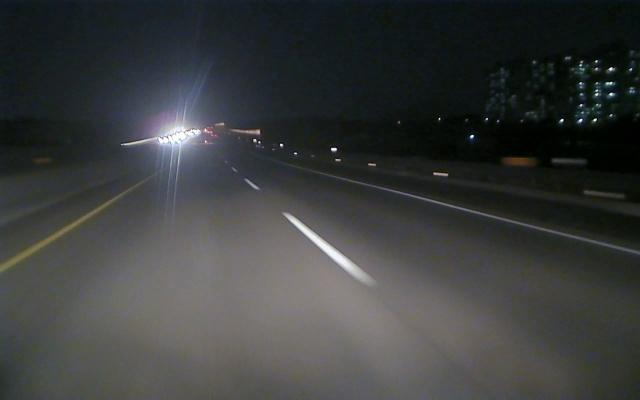lane: (334, 176, 638, 256), (244, 179, 376, 285), (1, 179, 149, 273)
